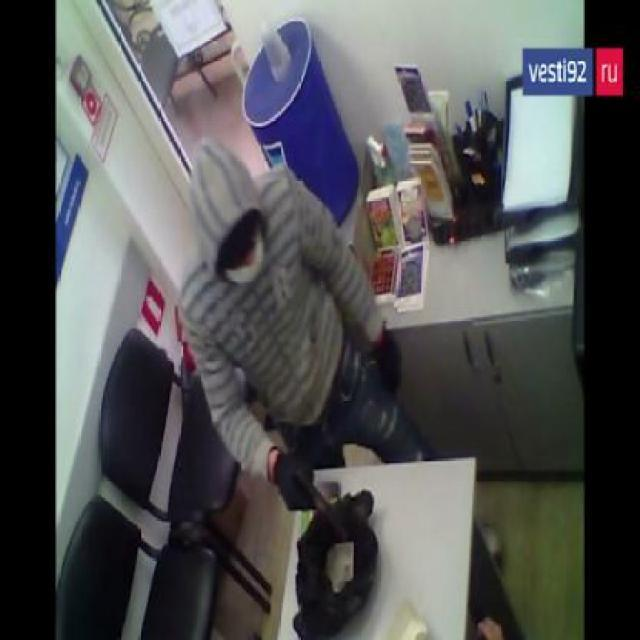weapon: (266, 446, 346, 536)
